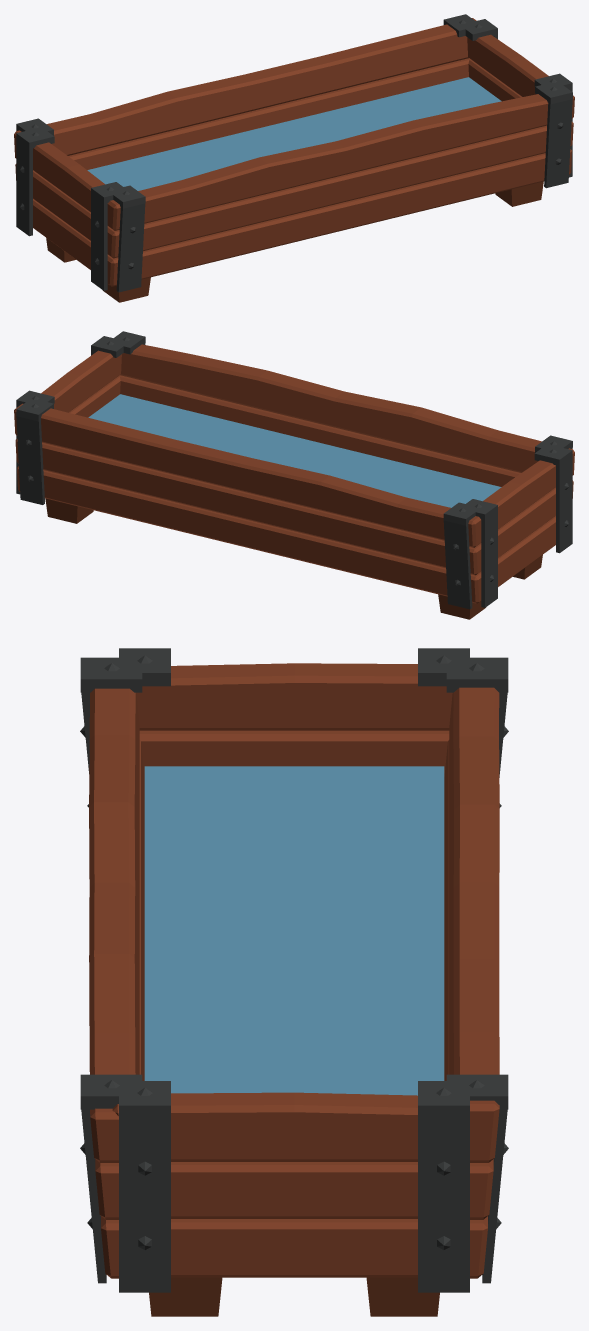
File: water-trough-partial.glb
The picture shows the model from 3 angles, top to bottom: view 1: azimuth 30°, elevation 25°; view 2: azimuth 150°, elevation 25°; view 3: azimuth 270°, elevation 25°; orthographic projection. The views are drawn at different scales.
Visible parts, largest first — view 1: walls, water, straps, feet; view 2: walls, water, straps, feet; view 3: walls, water, straps, feet.
Part boxes in pixels (x1,y1,x2,y2): walls: [14, 18, 574, 286]; water: [87, 77, 501, 190]; straps: [16, 14, 572, 292]; feet: [46, 181, 543, 302]; walls: [14, 344, 574, 603]; water: [88, 394, 501, 507]; straps: [16, 331, 572, 609]; feet: [45, 498, 542, 619]; walls: [89, 663, 499, 1278]; water: [144, 766, 444, 1095]; straps: [80, 648, 508, 1292]; feet: [149, 1277, 439, 1316].
Size of the model in its own units: 1.8 by 0.434 by 0.7047.
